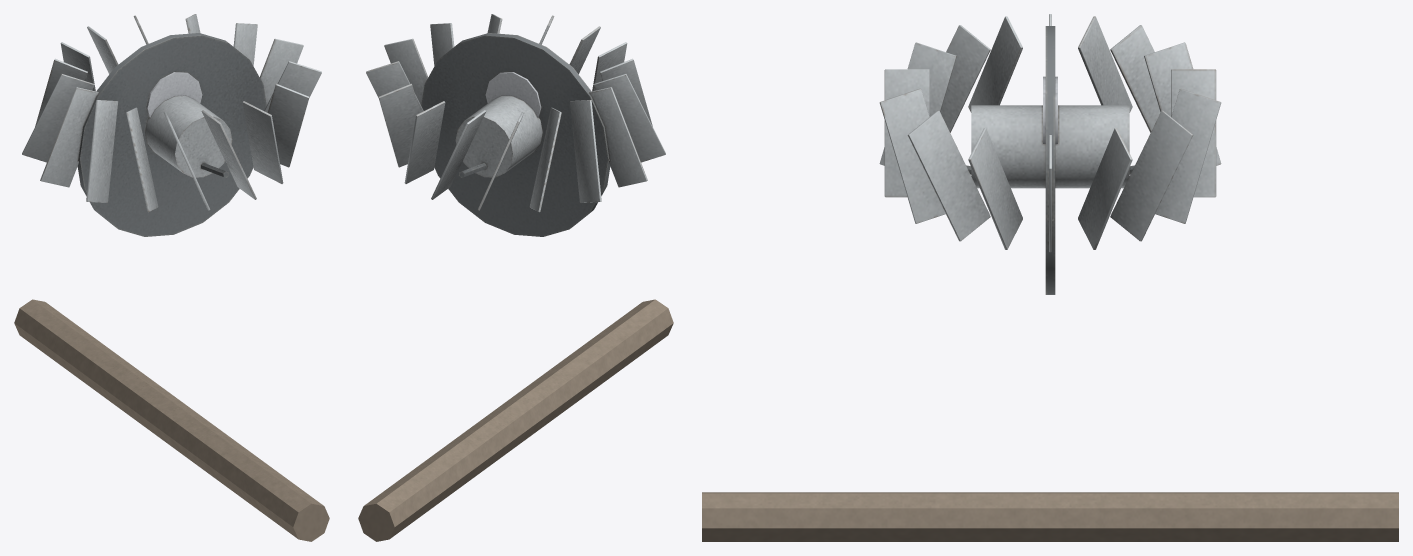
File: precip_gauge.glb
3 renders of one model, left to right at view 1: azimuth 30°, elevation 25°; view 2: azimuth 150°, elevation 25°; view 3: azimuth 270°, elevation 25°, orthographic. The views are drawn at different scales.
Visible parts, largest first — view 1: precip_gauge; view 2: precip_gauge; view 3: precip_gauge.
Boxes of the visible parts, x1,y1,x2,y2 form: precip_gauge: (14,14,329,541); precip_gauge: (358,14,673,541); precip_gauge: (702,14,1398,541).
Bounding box in the file's own units: 1.01 × 1.48 × 1.85.
1 material, 1 textured.
